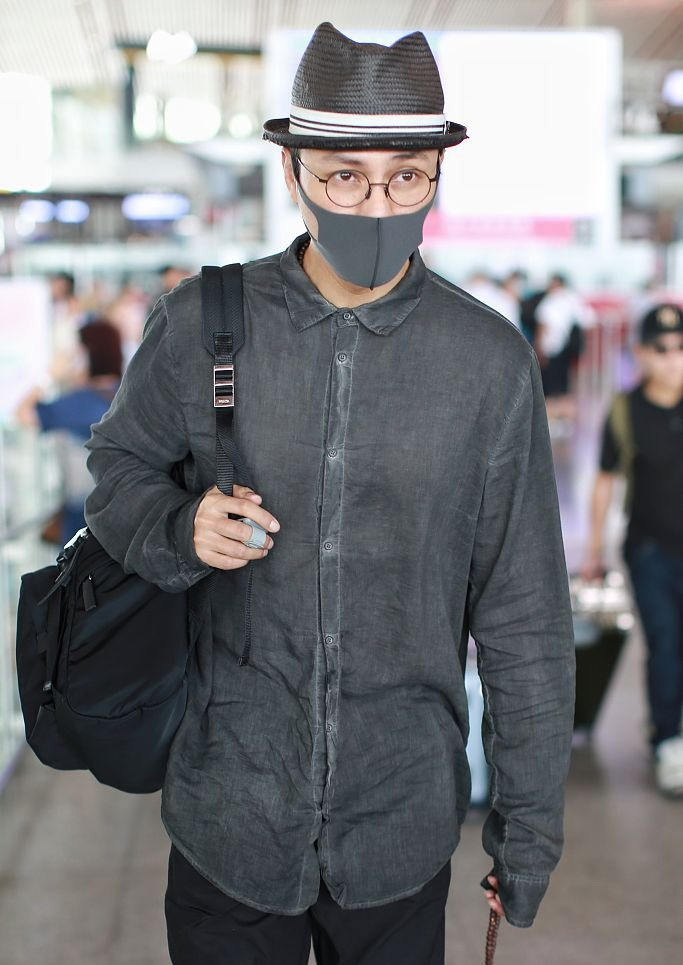face: (647, 330, 682, 391)
face_mask: (304, 109, 437, 292)
